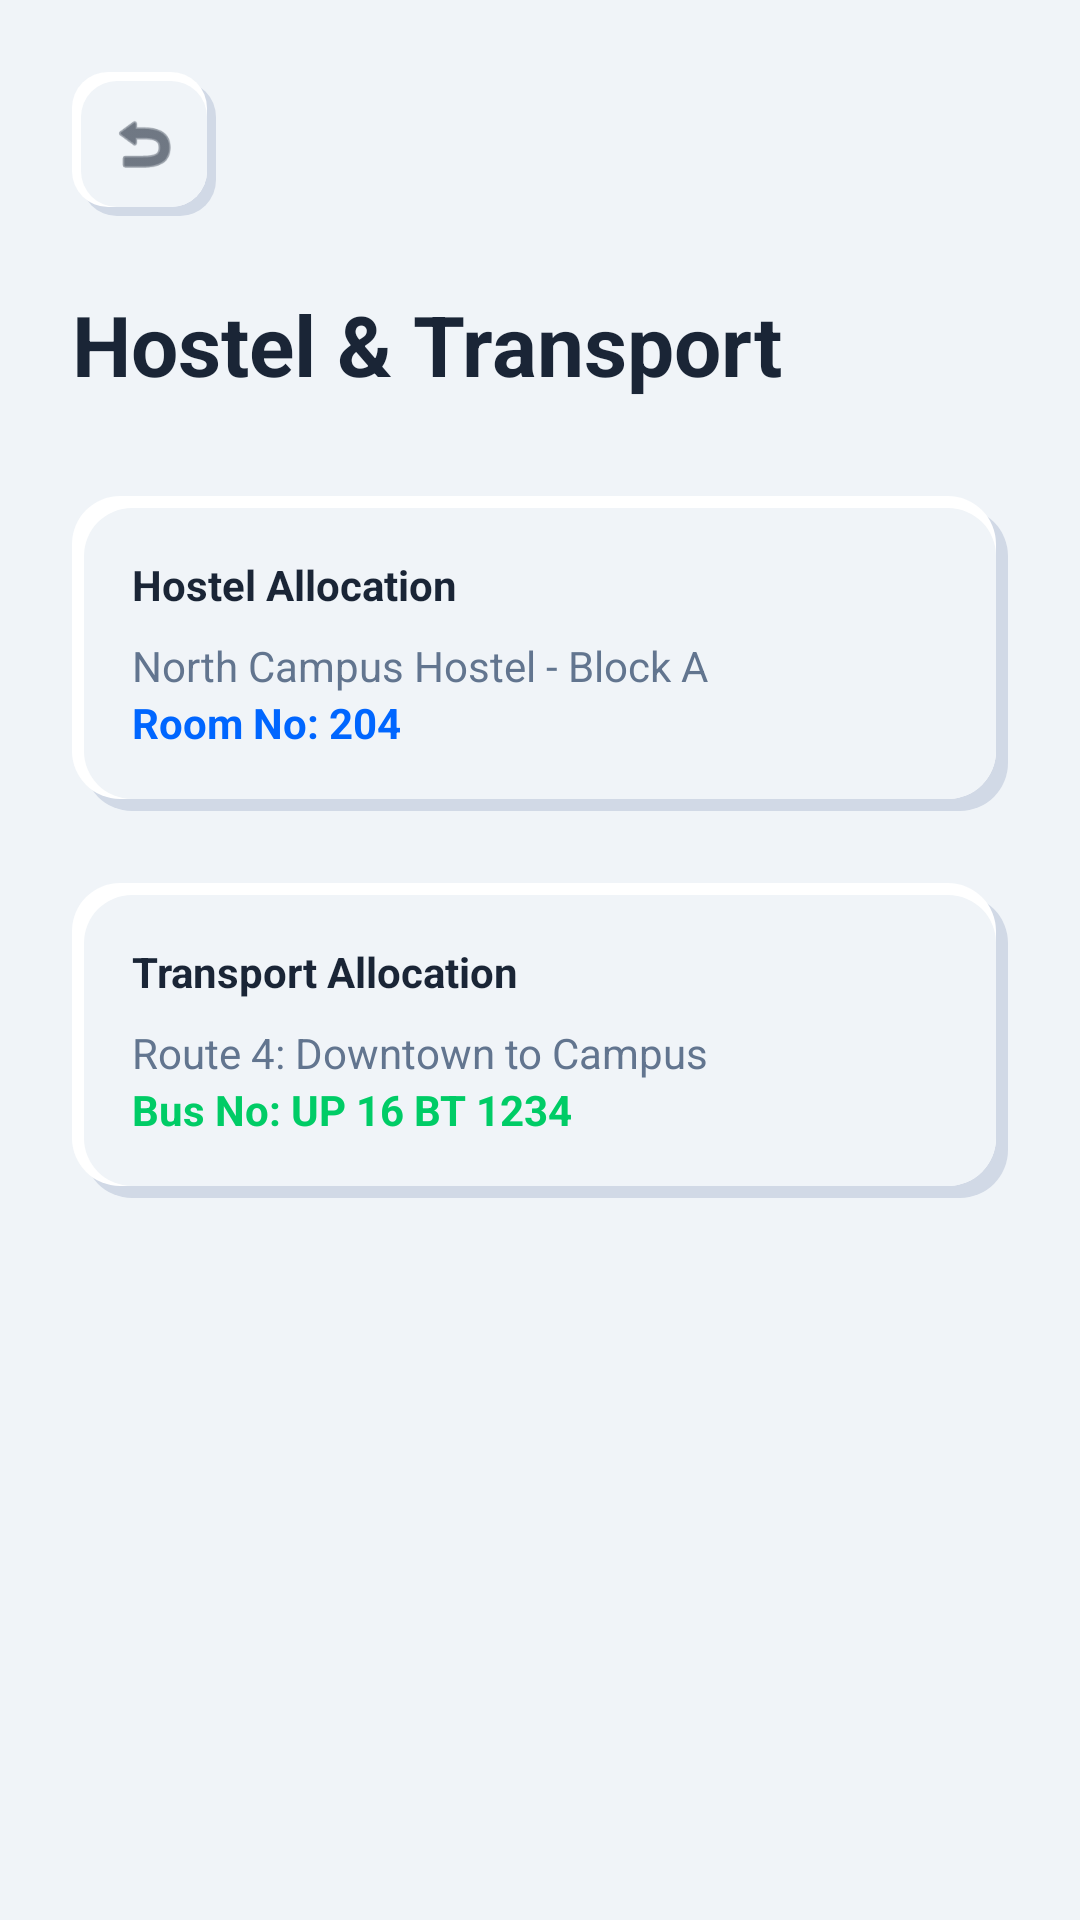

Where icons sit on this 1080 × 1920 app screen, as (x1, y1, x2, y2):
revert: (119, 121, 171, 168)
